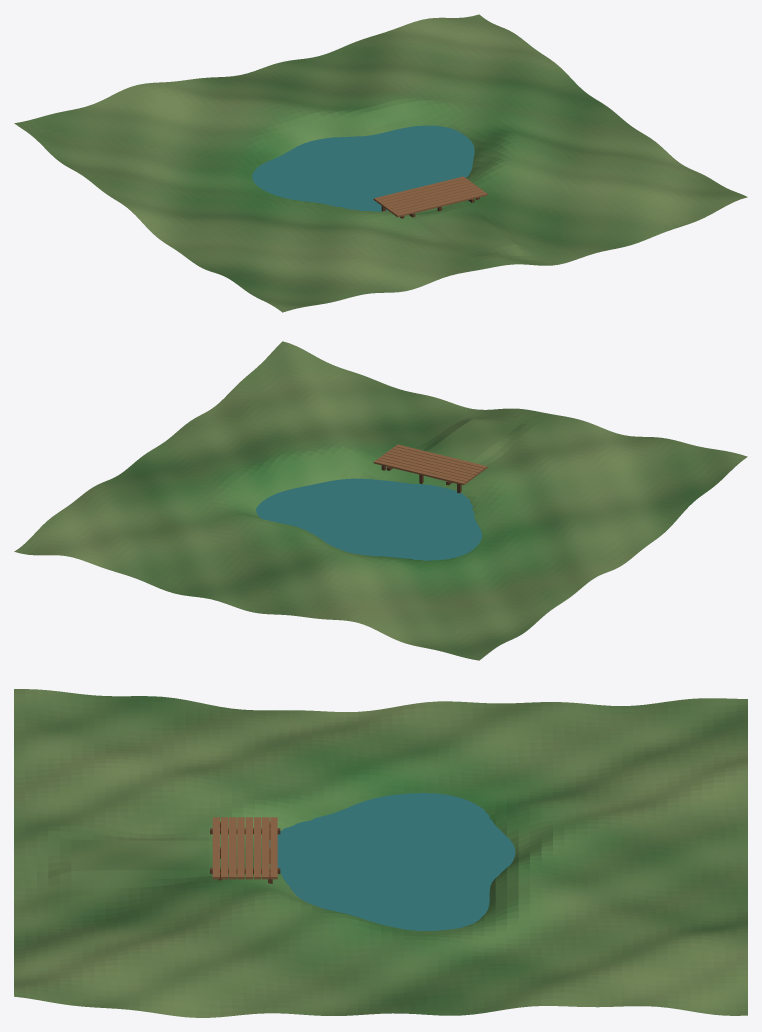
The model's file is fishing_forest.glb.
3 views of the same model, one above another, from view 1: azimuth 30°, elevation 25°; view 2: azimuth 150°, elevation 25°; view 3: azimuth 270°, elevation 25° (orthographic). The views are drawn at different scales.
Visible parts, largest first — view 1: Terrain, Pond_Water; view 2: Terrain, Pond_Water; view 3: Terrain, Pond_Water.
Part boxes in pixels (x1=…): Terrain: x1=14, y1=14, x2=747, y2=312; Pond_Water: x1=252, y1=125, x2=474, y2=211; Terrain: x1=14, y1=341, x2=747, y2=660; Pond_Water: x1=256, y1=478, x2=482, y2=560; Terrain: x1=14, y1=689, x2=747, y2=1017; Pond_Water: x1=269, y1=793, x2=515, y2=930.
Size of the model in its own units: 30 by 2.64 by 30.
